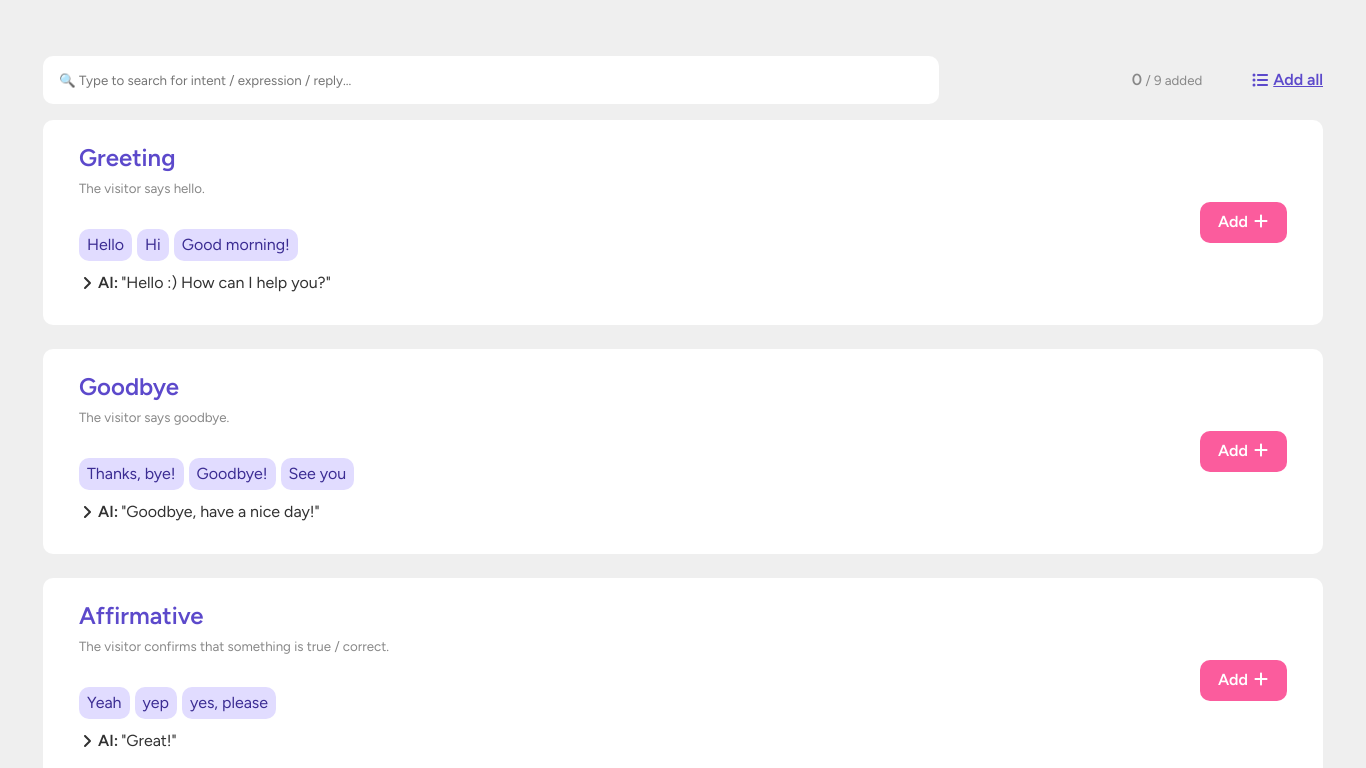
Scenario: Unit test for IntentsContainer: › bulk addition and count works properly when nothing is selected
Click the element with test id "bulkSelectionToggle": click(1288, 80) [1252,68,1323,92]
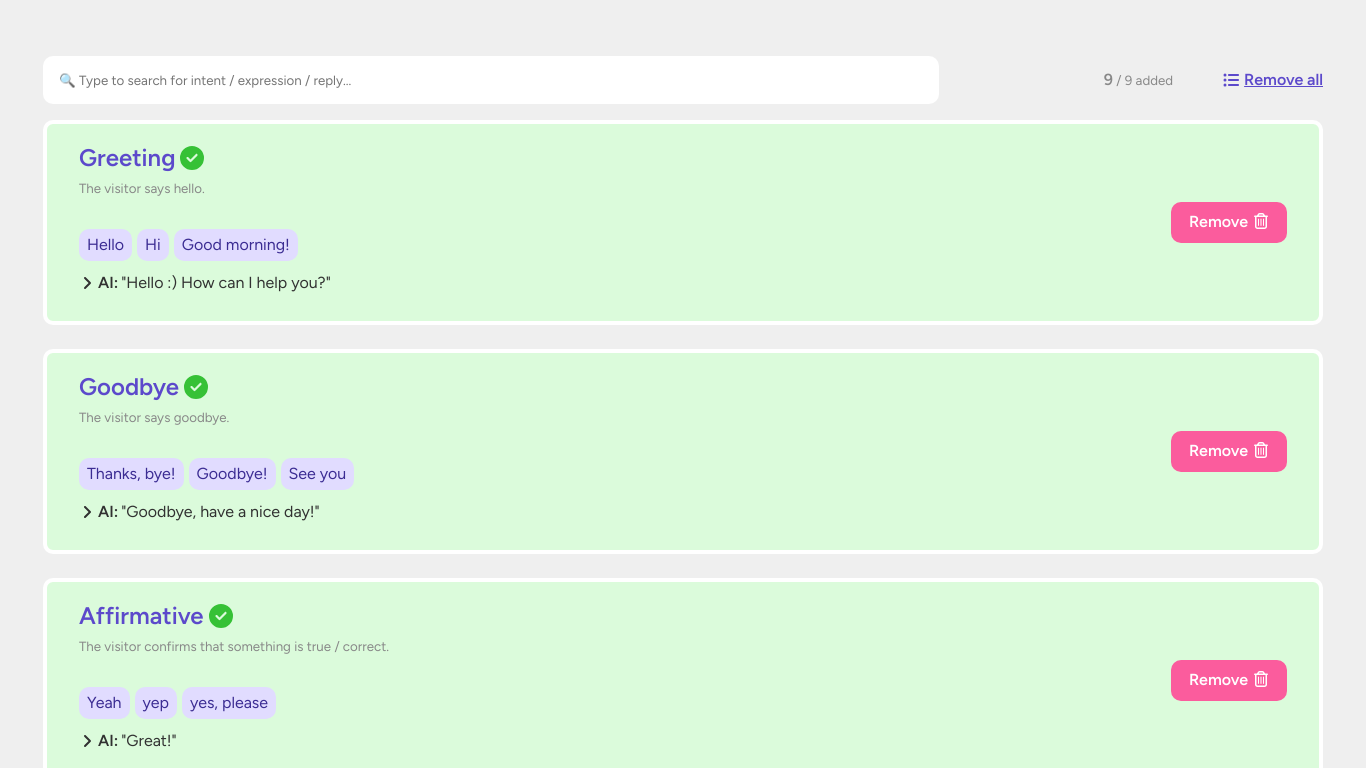
Now the element with test id "bulkSelectionToggle" reads "Remove all", box [1244,70,1323,89]
